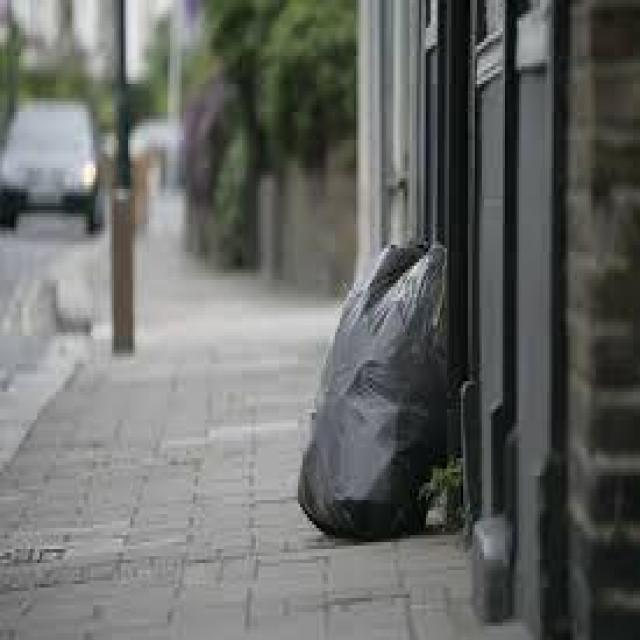garbage: (290, 230, 467, 550)
